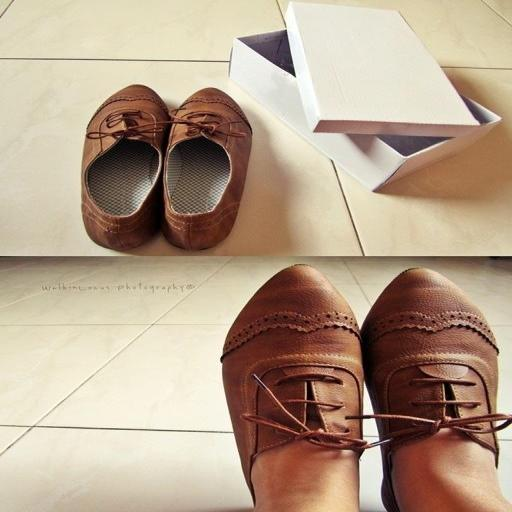shoe: (223, 259, 368, 512), (369, 262, 512, 512), (75, 79, 178, 248), (163, 88, 257, 252)
